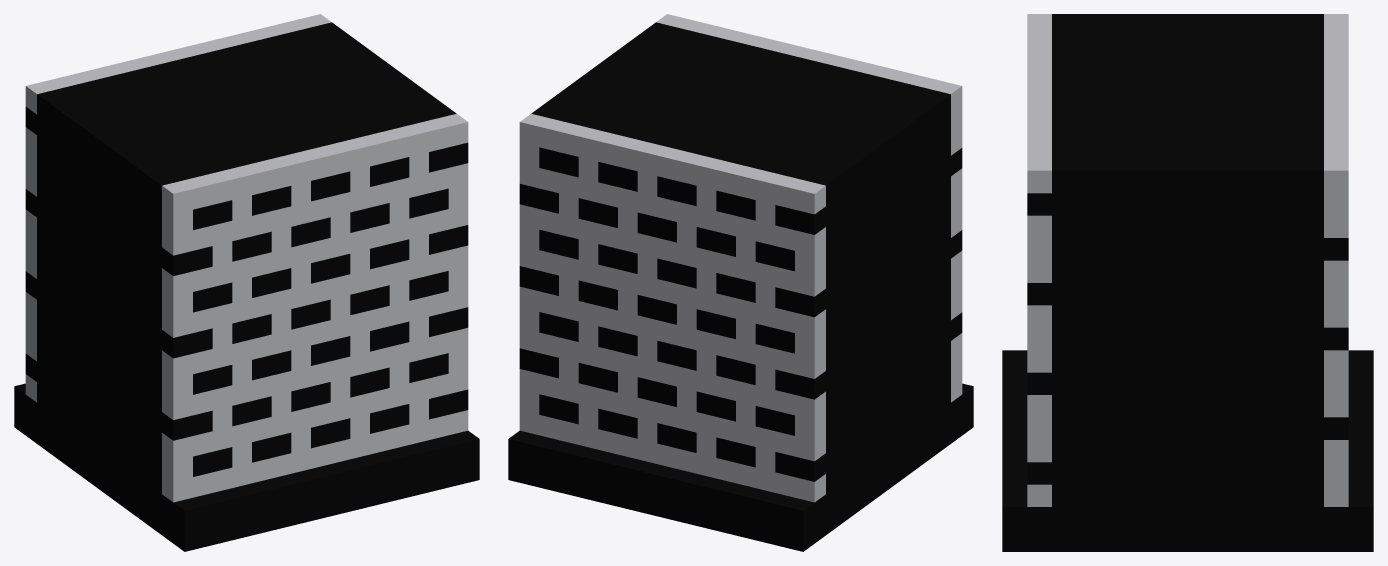
The model's file is dungeon_d_b_inner_wall_segment_a.obj.
3 views of the same model, side by side, from view 1: azimuth 30°, elevation 25°; view 2: azimuth 150°, elevation 25°; view 3: azimuth 270°, elevation 25° (orthographic). The views are drawn at different scales.
Size of the model in its own units: 1.5 by 1.7 by 1.5.
Materials: 1 (1 with a texture image).
